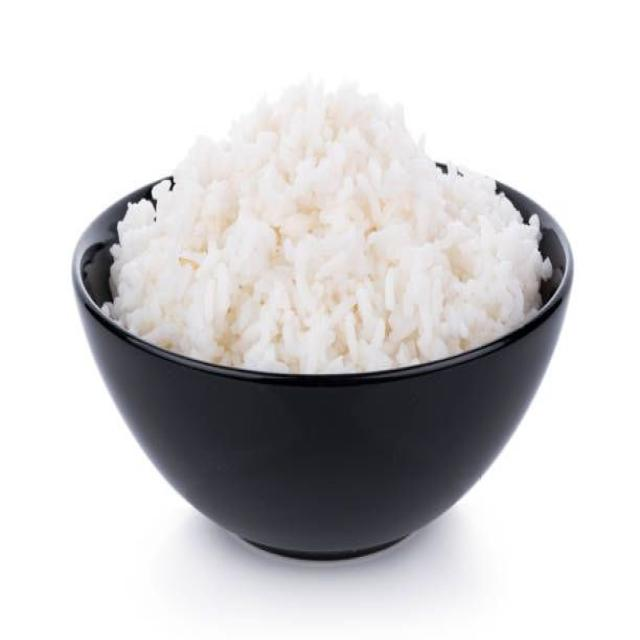Chicken -Chicken Inasal-: (166, 89, 502, 372)
